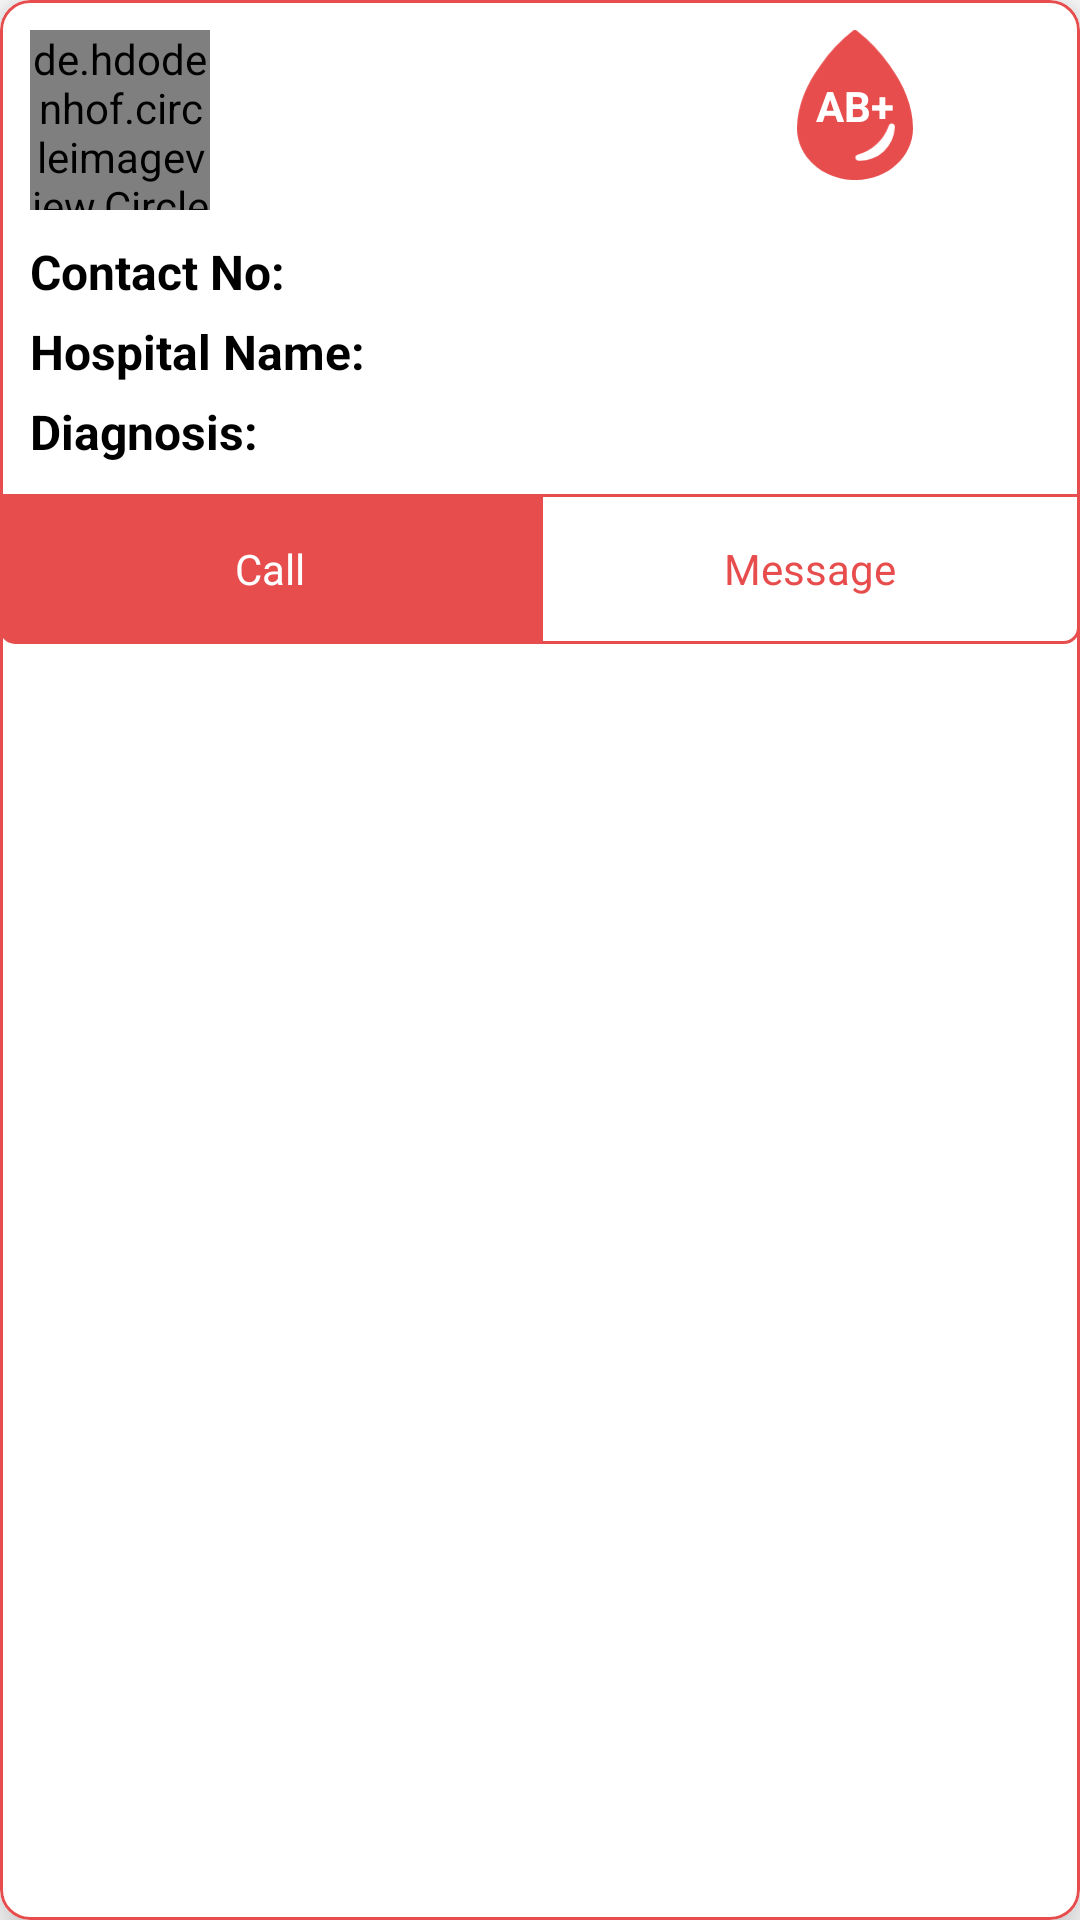

Icons on this 1080w x 1920h Android screen, each with the point to tap as (x,y):
blood: (855,105)
